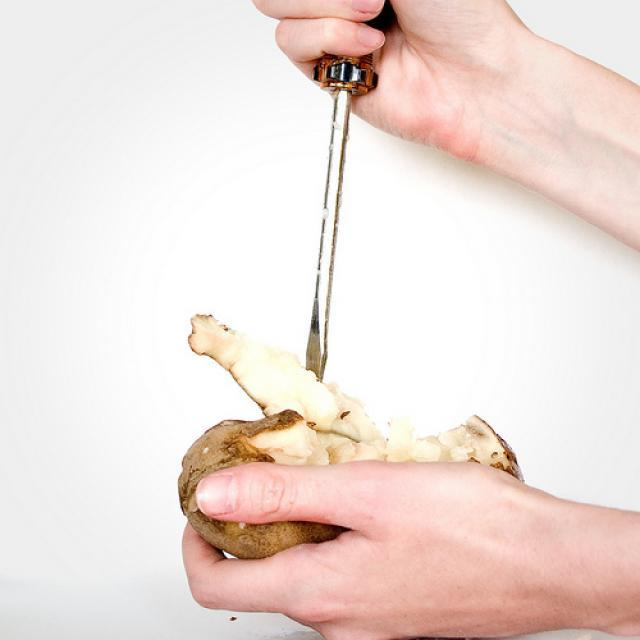screwdriver: (288, 0, 403, 408)
